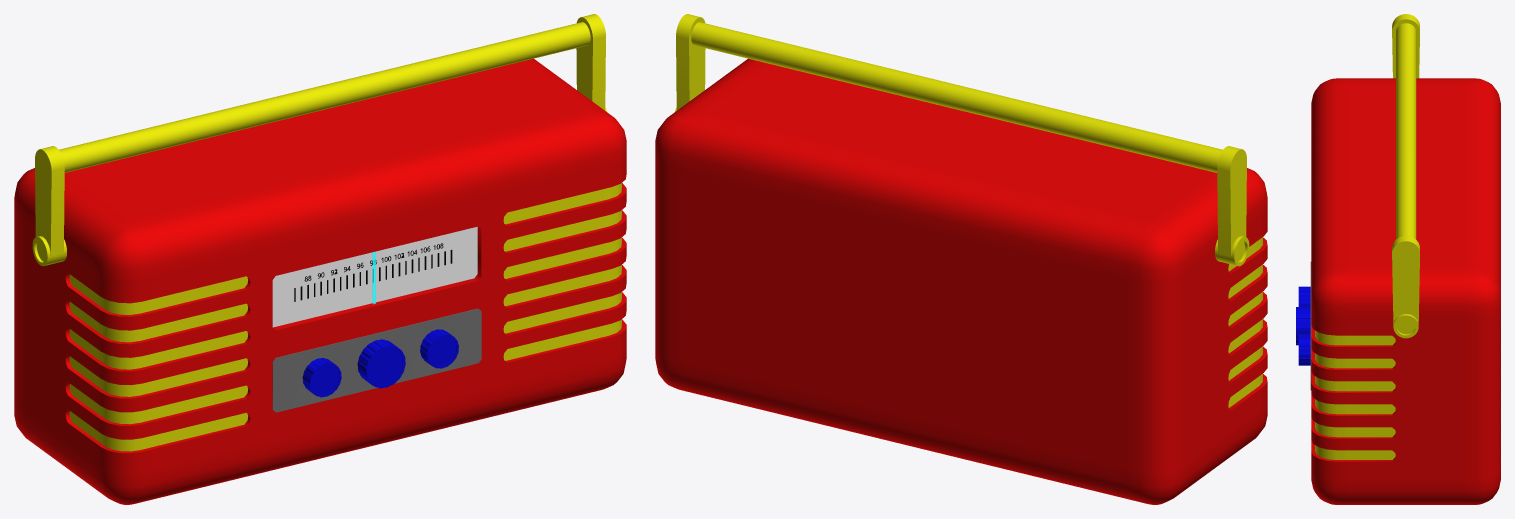
Rendered from radio.fbx.
3 renders of one model, left to right at view 1: azimuth 30°, elevation 25°; view 2: azimuth 150°, elevation 25°; view 3: azimuth 270°, elevation 25°, orthographic. The views are drawn at different scales.
Visible parts, largest first — view 1: obj_6, obj_5, obj_10, obj_4, obj_8, obj_9, obj_2, obj_7; view 2: obj_6, obj_10, obj_9, obj_5; view 3: obj_6, obj_5, obj_10, obj_9, obj_2, obj_7, obj_8.
Boxes of the visible parts, x1,y1,x2,y2 form: obj_6: [14, 58, 626, 504]; obj_5: [69, 183, 621, 451]; obj_10: [59, 22, 590, 172]; obj_4: [272, 226, 477, 327]; obj_8: [272, 308, 481, 412]; obj_9: [32, 14, 606, 266]; obj_2: [302, 329, 458, 397]; obj_7: [357, 339, 405, 388]; obj_6: [655, 58, 1267, 504]; obj_10: [691, 22, 1222, 172]; obj_9: [675, 14, 1249, 266]; obj_5: [1228, 237, 1262, 407]; obj_6: [1311, 78, 1500, 504]; obj_5: [1315, 330, 1395, 459]; obj_10: [1396, 23, 1416, 239]; obj_9: [1392, 14, 1419, 338]; obj_2: [1298, 286, 1310, 365]; obj_7: [1296, 307, 1310, 345]; obj_8: [1310, 262, 1311, 390].
Size of the model in its own units: 43 by 24.31 by 16.2.
